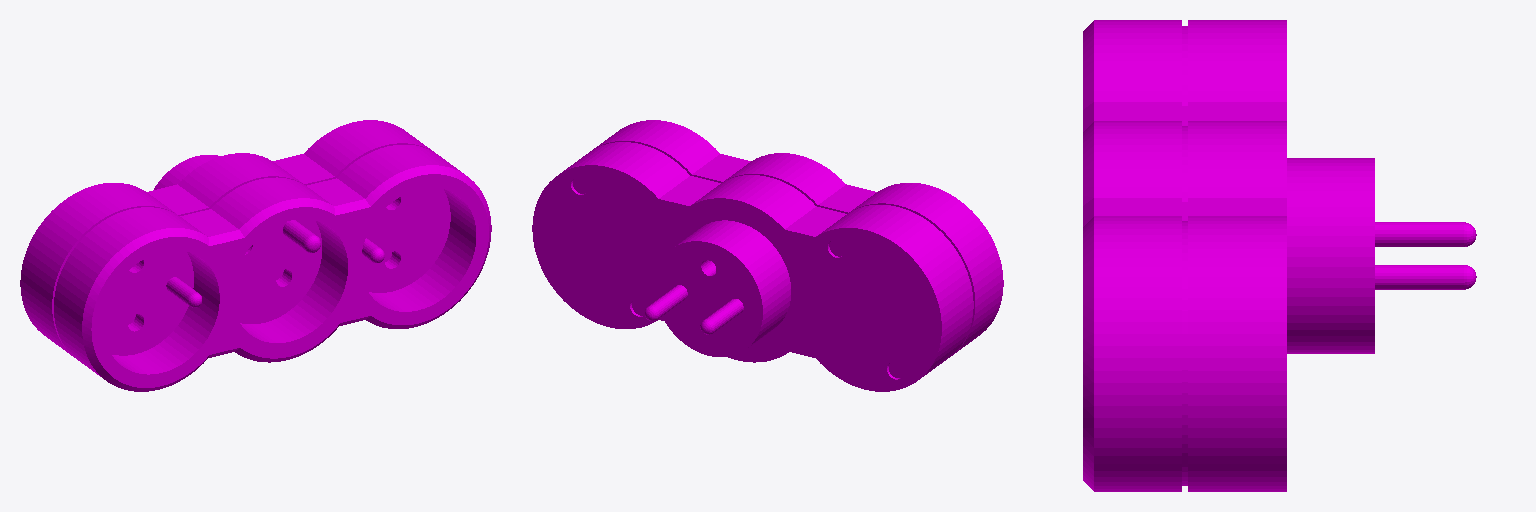
The robot description file, URDF, robot "obj_000023":
<?xml version="1.0" ?>
<robot name="obj_000023">
   <link name="base_link">
      <visual>
         <geometry>
            <mesh filename="package://agimus_demo_05_pick_and_place/urdf/tless/obj_23.obj" scale="0.001 0.001 0.001"/>
         </geometry>
         <material name="mat_part0">
            <color rgba="0.9 0.0 0.9 1.0"/>
         </material>
      </visual>
      <collision>
         <geometry>
            <mesh filename="package://agimus_demo_05_pick_and_place/urdf/tless/obj_23.obj" scale="0.001 0.001 0.001"/>
         </geometry>
      </collision>
      <inertial>
         <origin rpy="0 0 0" xyz="0.0 0.0 0.0"/>
         <mass value="0.1"/>
         <inertia ixx="1" ixy="0" ixz="0" iyy="1" iyz="0" izz="1"/>
      </inertial>
   </link>
</robot>

--- What the picture shows (computed from the rendered views, not written in the file) ---
3 views of the same robot in one strip: view 1: azimuth 30°, elevation 25°; view 2: azimuth 150°, elevation 25°; view 3: azimuth 270°, elevation 25° (orthographic).
Model obj_000023 with 1 links and 0 joints (none), rooted at base_link, posed every joint at zero.
Links seen in each view (by area): view 1: base_link; view 2: base_link; view 3: base_link.
Link boxes in pixels (x1,y1,x2,y2): base_link: [20, 120, 491, 391]; base_link: [532, 120, 1003, 391]; base_link: [1083, 20, 1476, 491].
Size in the robot's own frame: 0.1379 by 0.0735 by 0.0521 metres.
Meshes: 1 distinct files referenced, 1 mesh visuals loaded (1 OBJ).
